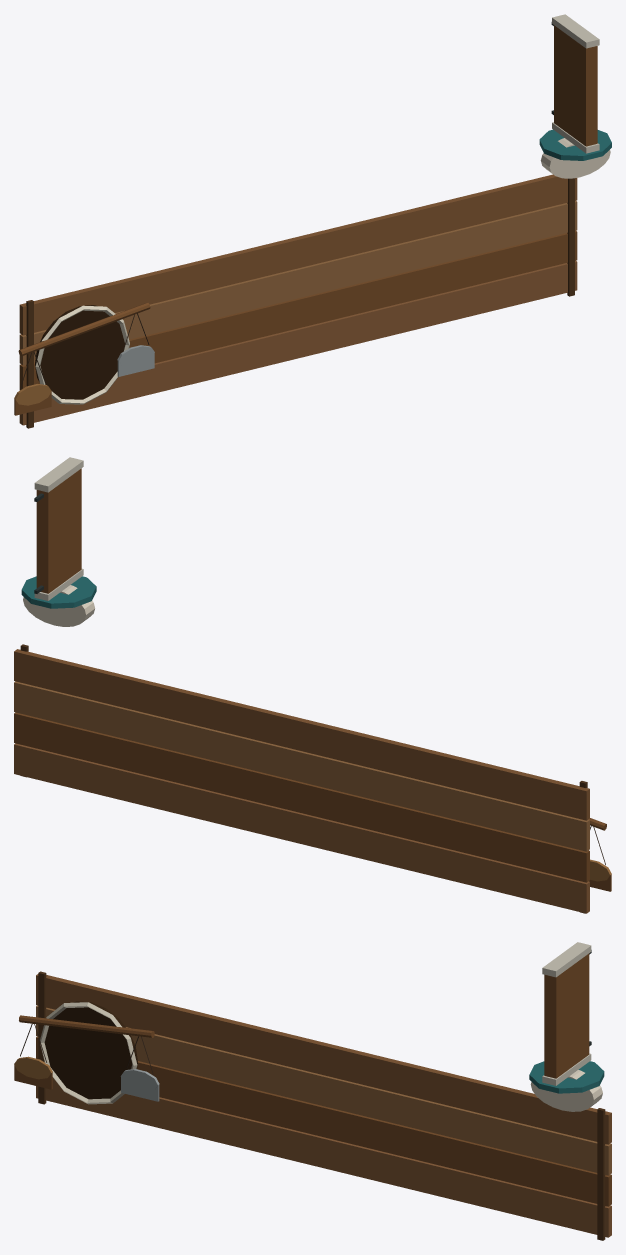
The model's file is bang_pho_ganh_chu_sau_60.glb.
The picture shows the model from 3 angles, top to bottom: view 1: azimuth 30°, elevation 25°; view 2: azimuth 150°, elevation 25°; view 3: azimuth 330°, elevation 25°; orthographic projection. The views are drawn at different scales.
Parts seen in each view (by area): view 1: bang_pho_ganh_chu_sau_60; view 2: bang_pho_ganh_chu_sau_60; view 3: bang_pho_ganh_chu_sau_60.
Boxes of the visible parts, x1=… form: bang_pho_ganh_chu_sau_60: x1=14, y1=14, x2=611, y2=428; bang_pho_ganh_chu_sau_60: x1=14, y1=457, x2=611, y2=913; bang_pho_ganh_chu_sau_60: x1=14, y1=942, x2=611, y2=1240.
Bounding box in the file's own units: 6.06 × 2.84 × 0.7238.
